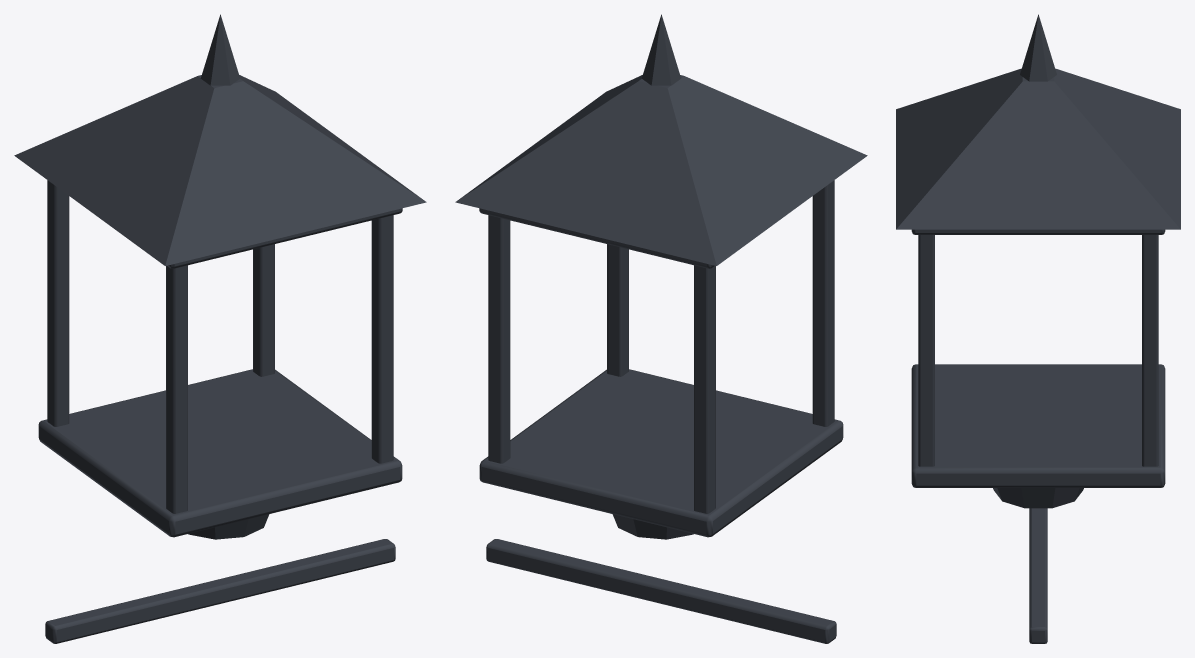
The model's file is street_lamp_head.fbx.
The picture shows the model from 3 angles, left to right: view 1: azimuth 30°, elevation 25°; view 2: azimuth 150°, elevation 25°; view 3: azimuth 270°, elevation 25°; orthographic projection. The views are drawn at different scales.
Visible parts, largest first — view 1: street_lamp_head; view 2: street_lamp_head; view 3: street_lamp_head.
Boxes of the visible parts, x1,y1,x2,y2 form: street_lamp_head: (14,14,426,643); street_lamp_head: (455,14,867,643); street_lamp_head: (896,14,1180,643).
Size of the model in its own units: 0.5 by 0.3818 by 0.8175.
